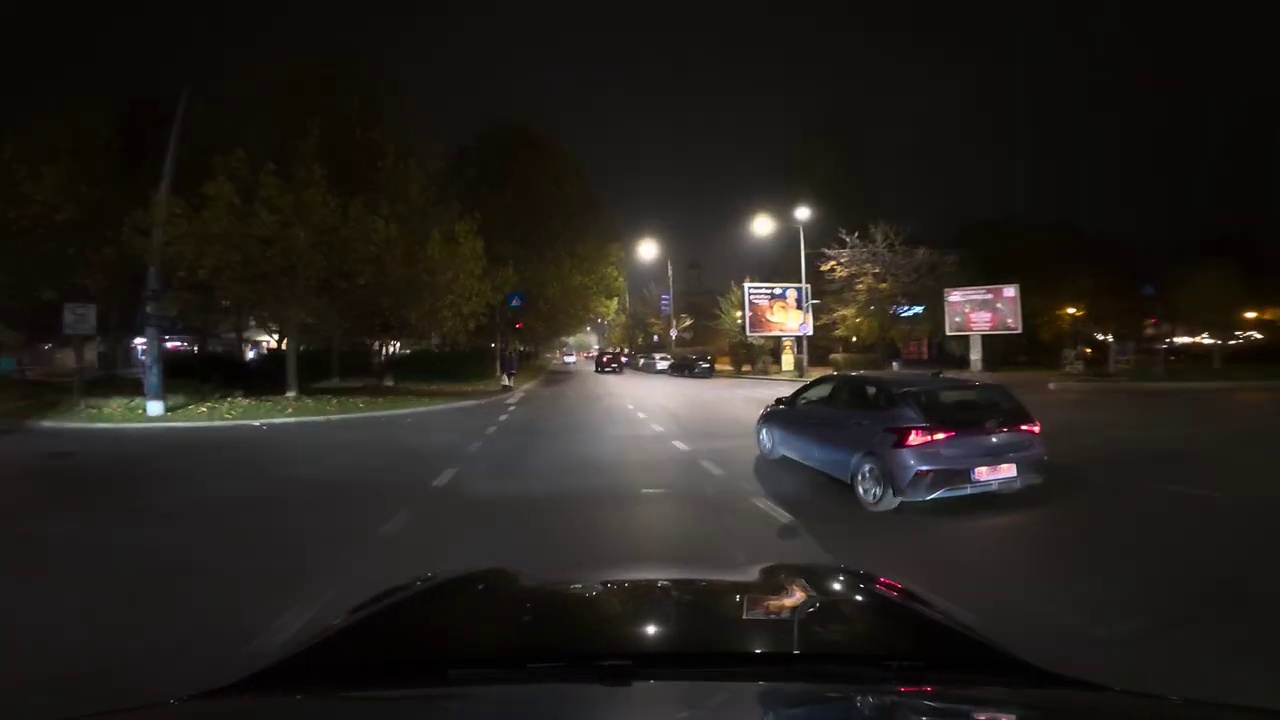acesa: (749, 211, 779, 239), (633, 236, 662, 264), (791, 203, 814, 224)
